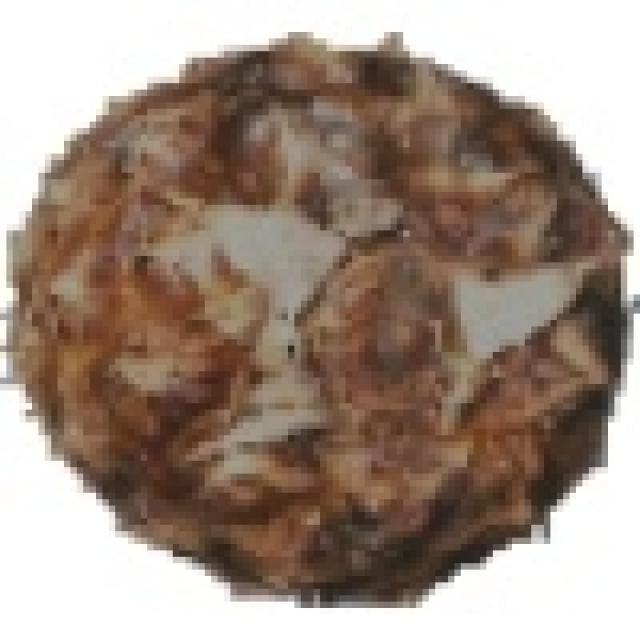pineapple: (6, 32, 614, 589)
